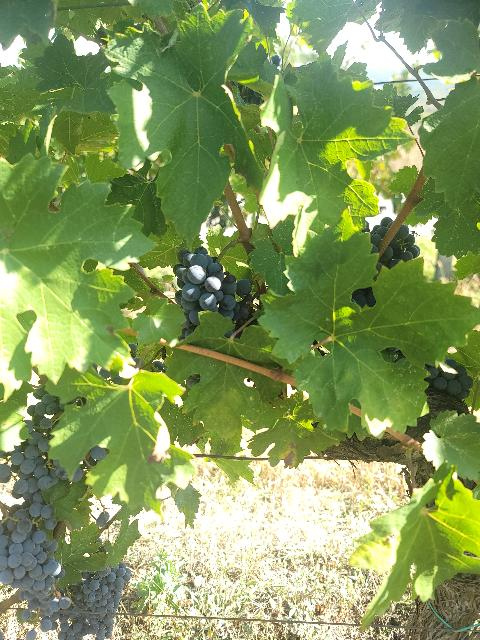grapes: (174, 246, 249, 339), (0, 501, 63, 610), (82, 562, 130, 640)
